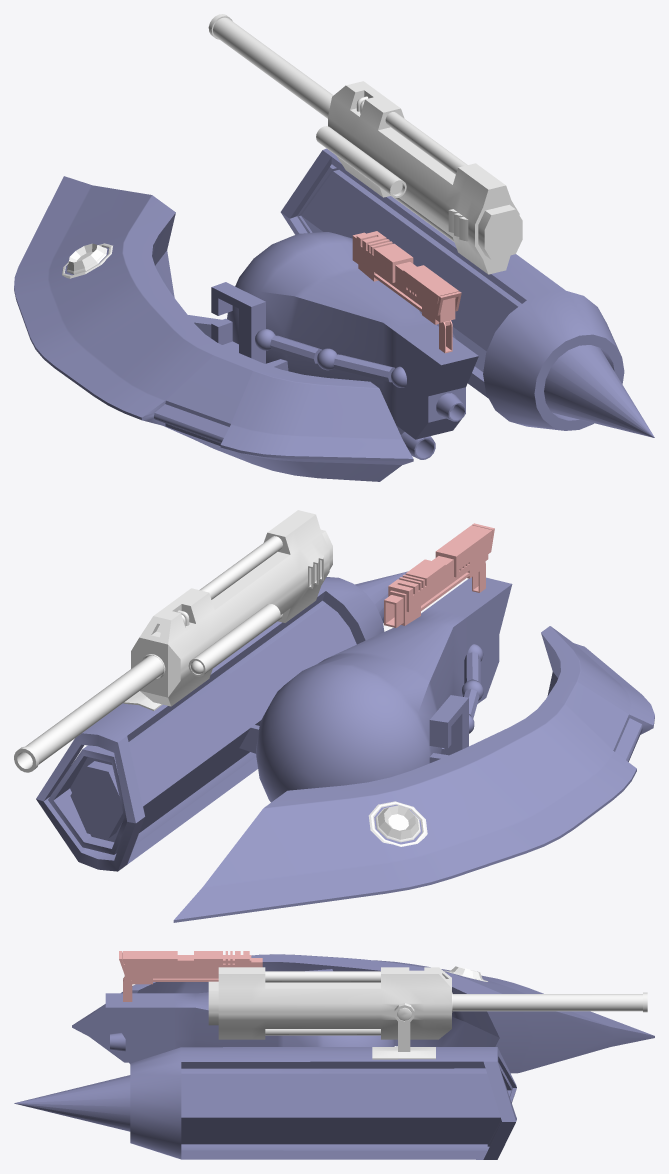
Rendered from fbx_vaisseau_texturesV1.fbx.
The picture shows the model from 3 angles, top to bottom: view 1: azimuth 30°, elevation 25°; view 2: azimuth 150°, elevation 25°; view 3: azimuth 270°, elevation 25°; orthographic projection. The views are drawn at different scales.
Parts seen in each view (by area): view 1: mesh_vaissseauV2, mesh_tirGrenadeV1, mesh_base_laser, mesh_down_pince, mesh_up_pince, mesh_bras1, mesh_bras2, mesh_bouclier; view 2: mesh_vaissseauV2, mesh_tirGrenadeV1, mesh_base_laser, mesh_up_pince, mesh_bouclier, mesh_down_pince, mesh_baseBouclier; view 3: mesh_vaissseauV2, mesh_tirGrenadeV1, mesh_base_laser.
Part boxes in pixels (x1=…): mesh_vaissseauV2: x1=14, y1=148, x2=654, y2=481; mesh_tirGrenadeV1: x1=208, y1=14, x2=522, y2=274; mesh_base_laser: x1=352, y1=231, x2=461, y2=353; mesh_down_pince: x1=211, y1=310, x2=265, y2=363; mesh_up_pince: x1=211, y1=282, x2=265, y2=316; mesh_bras1: x1=333, y1=354, x2=394, y2=382; mesh_bras2: x1=270, y1=335, x2=321, y2=363; mesh_bouclier: x1=68, y1=243, x2=104, y2=271; mesh_vaissseauV2: x1=36, y1=571, x2=654, y2=922; mesh_tirGrenadeV1: x1=14, y1=510, x2=332, y2=772; mesh_base_laser: x1=384, y1=523, x2=494, y2=627; mesh_up_pince: x1=429, y1=695, x2=468, y2=748; mesh_bouclier: x1=377, y1=805, x2=418, y2=839; mesh_down_pince: x1=429, y1=707, x2=468, y2=762; mesh_baseBouclier: x1=368, y1=801, x2=427, y2=846; mesh_vaissseauV2: x1=14, y1=954, x2=654, y2=1159; mesh_tirGrenadeV1: x1=208, y1=967, x2=647, y2=1059; mesh_base_laser: x1=119, y1=951, x2=262, y2=1001.
Bounding box in the file's own units: 3.62 × 1.91 × 5.9.
